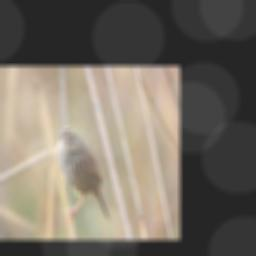Sparrow: (55, 127, 113, 227)
